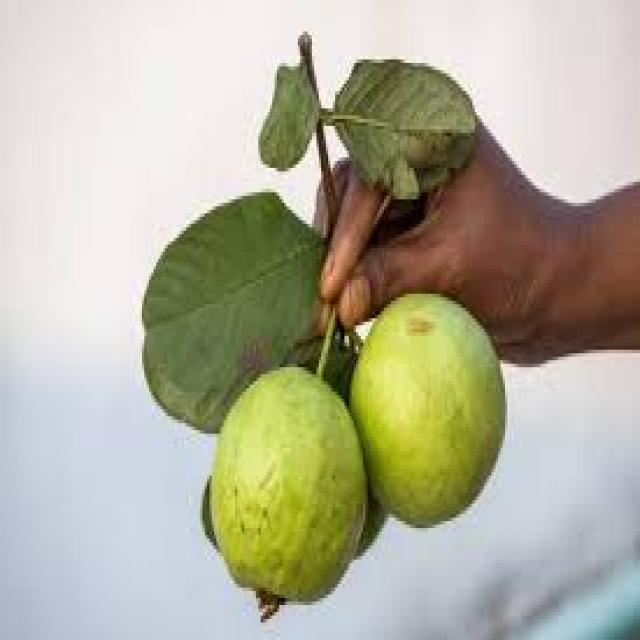Guava: (349, 310, 504, 527), (212, 395, 373, 596)
